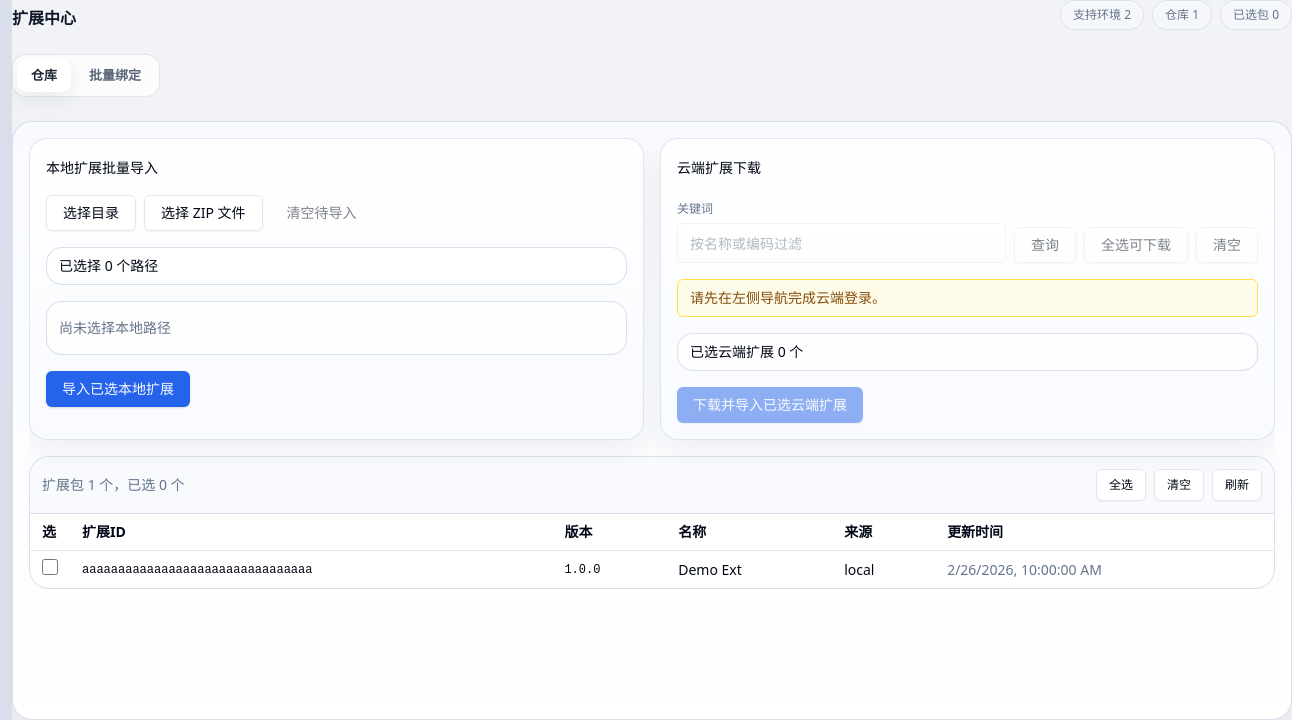
Test case: ExtensionPackagesPanel › does not auto-select extension profiles by default
Expected: the text "Demo Ext" is shown, [666,550,832,588]
Click the button "批量绑定" at (115, 76), box [75,59,155,92]
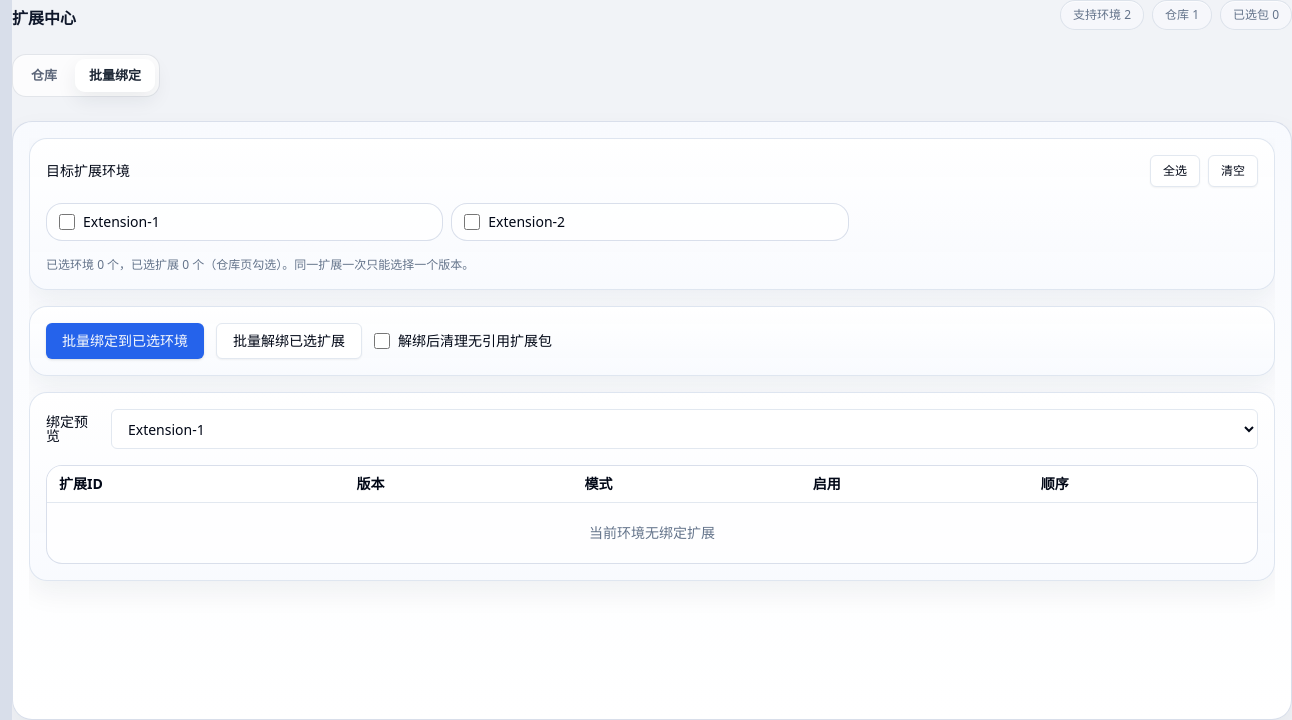
Expected: the text "已选环境 0 个，已选扩展 0 个（仓库页勾选）。同一扩展一次只能选择一个版本。" is shown, [46,256,474,273]
